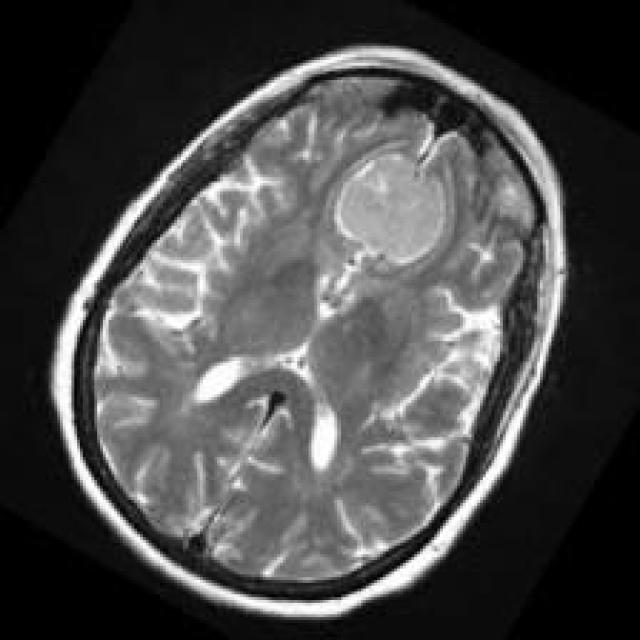meningioma_tumor: (324, 139, 468, 275)
